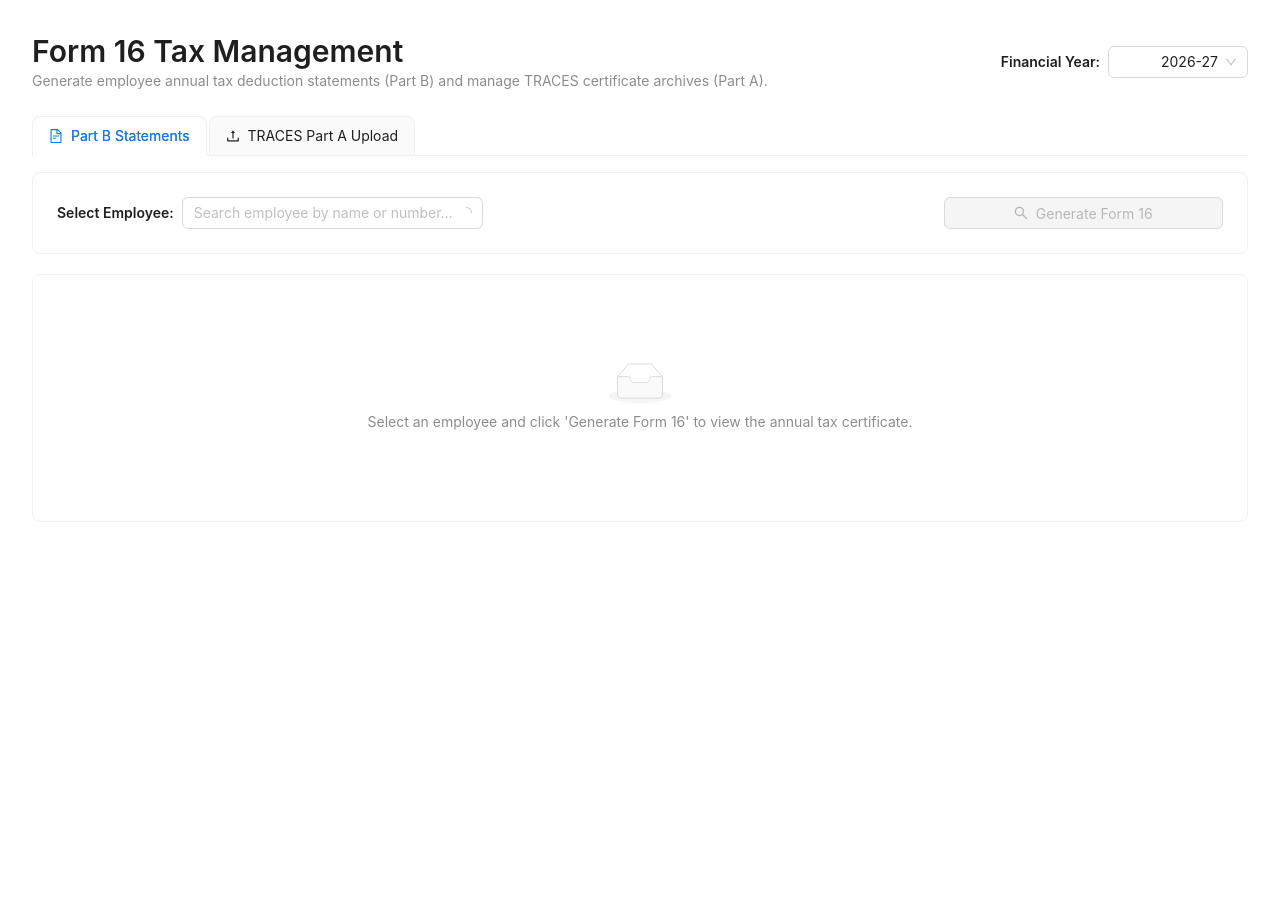
Test: Form16Page › switches to TRACES Part A Upload tab and lists certificates
Click the tab "TRACES Part A Upload" at {"x": 312, "y": 136}, box top-left (226, 125), bottom-right (398, 147)
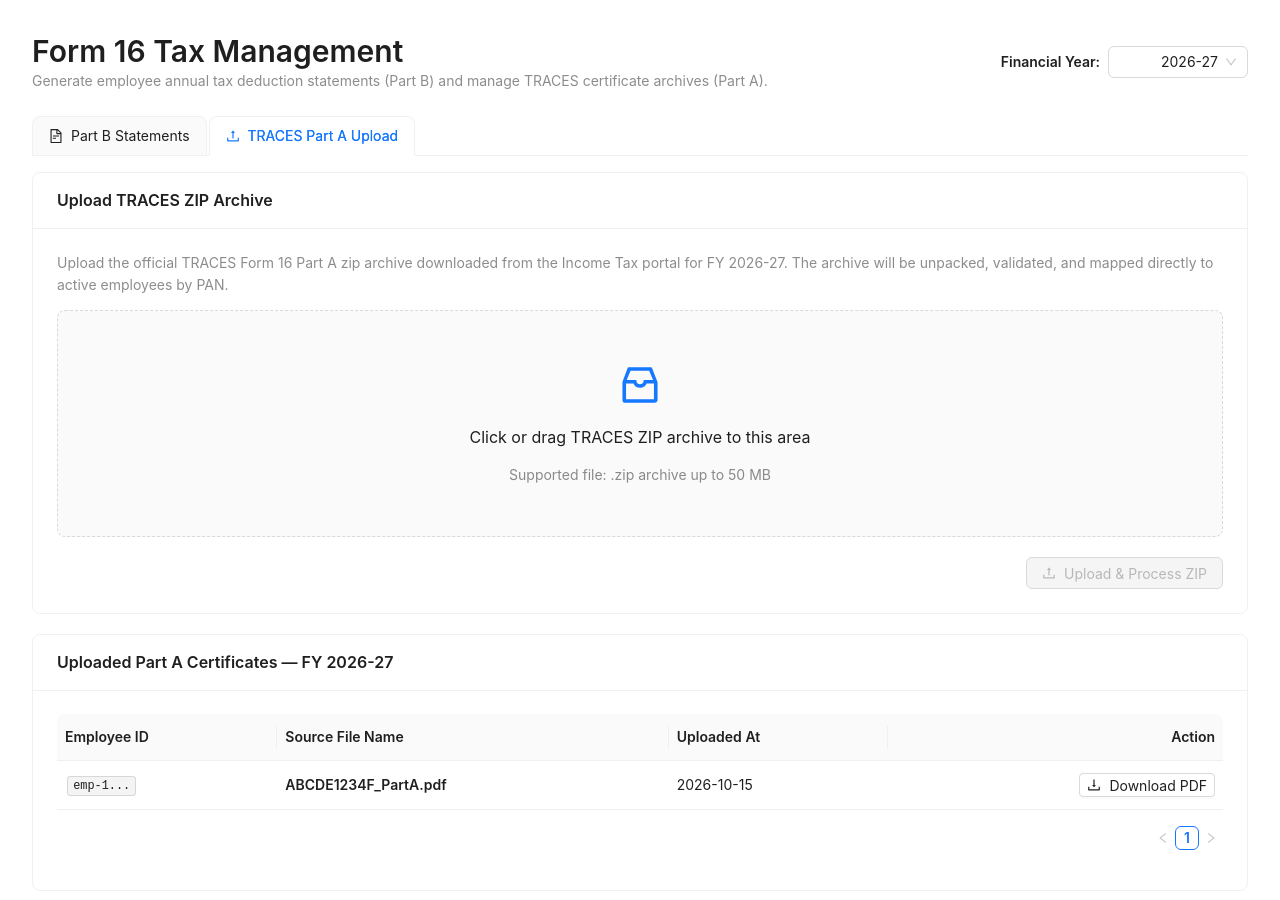
Check: the text "ABCDE1234F_PartA.pdf" is shown, box top-left (285, 776), bottom-right (447, 793)
Check: the text "Download PDF" is shown, box top-left (1109, 777), bottom-right (1207, 794)
